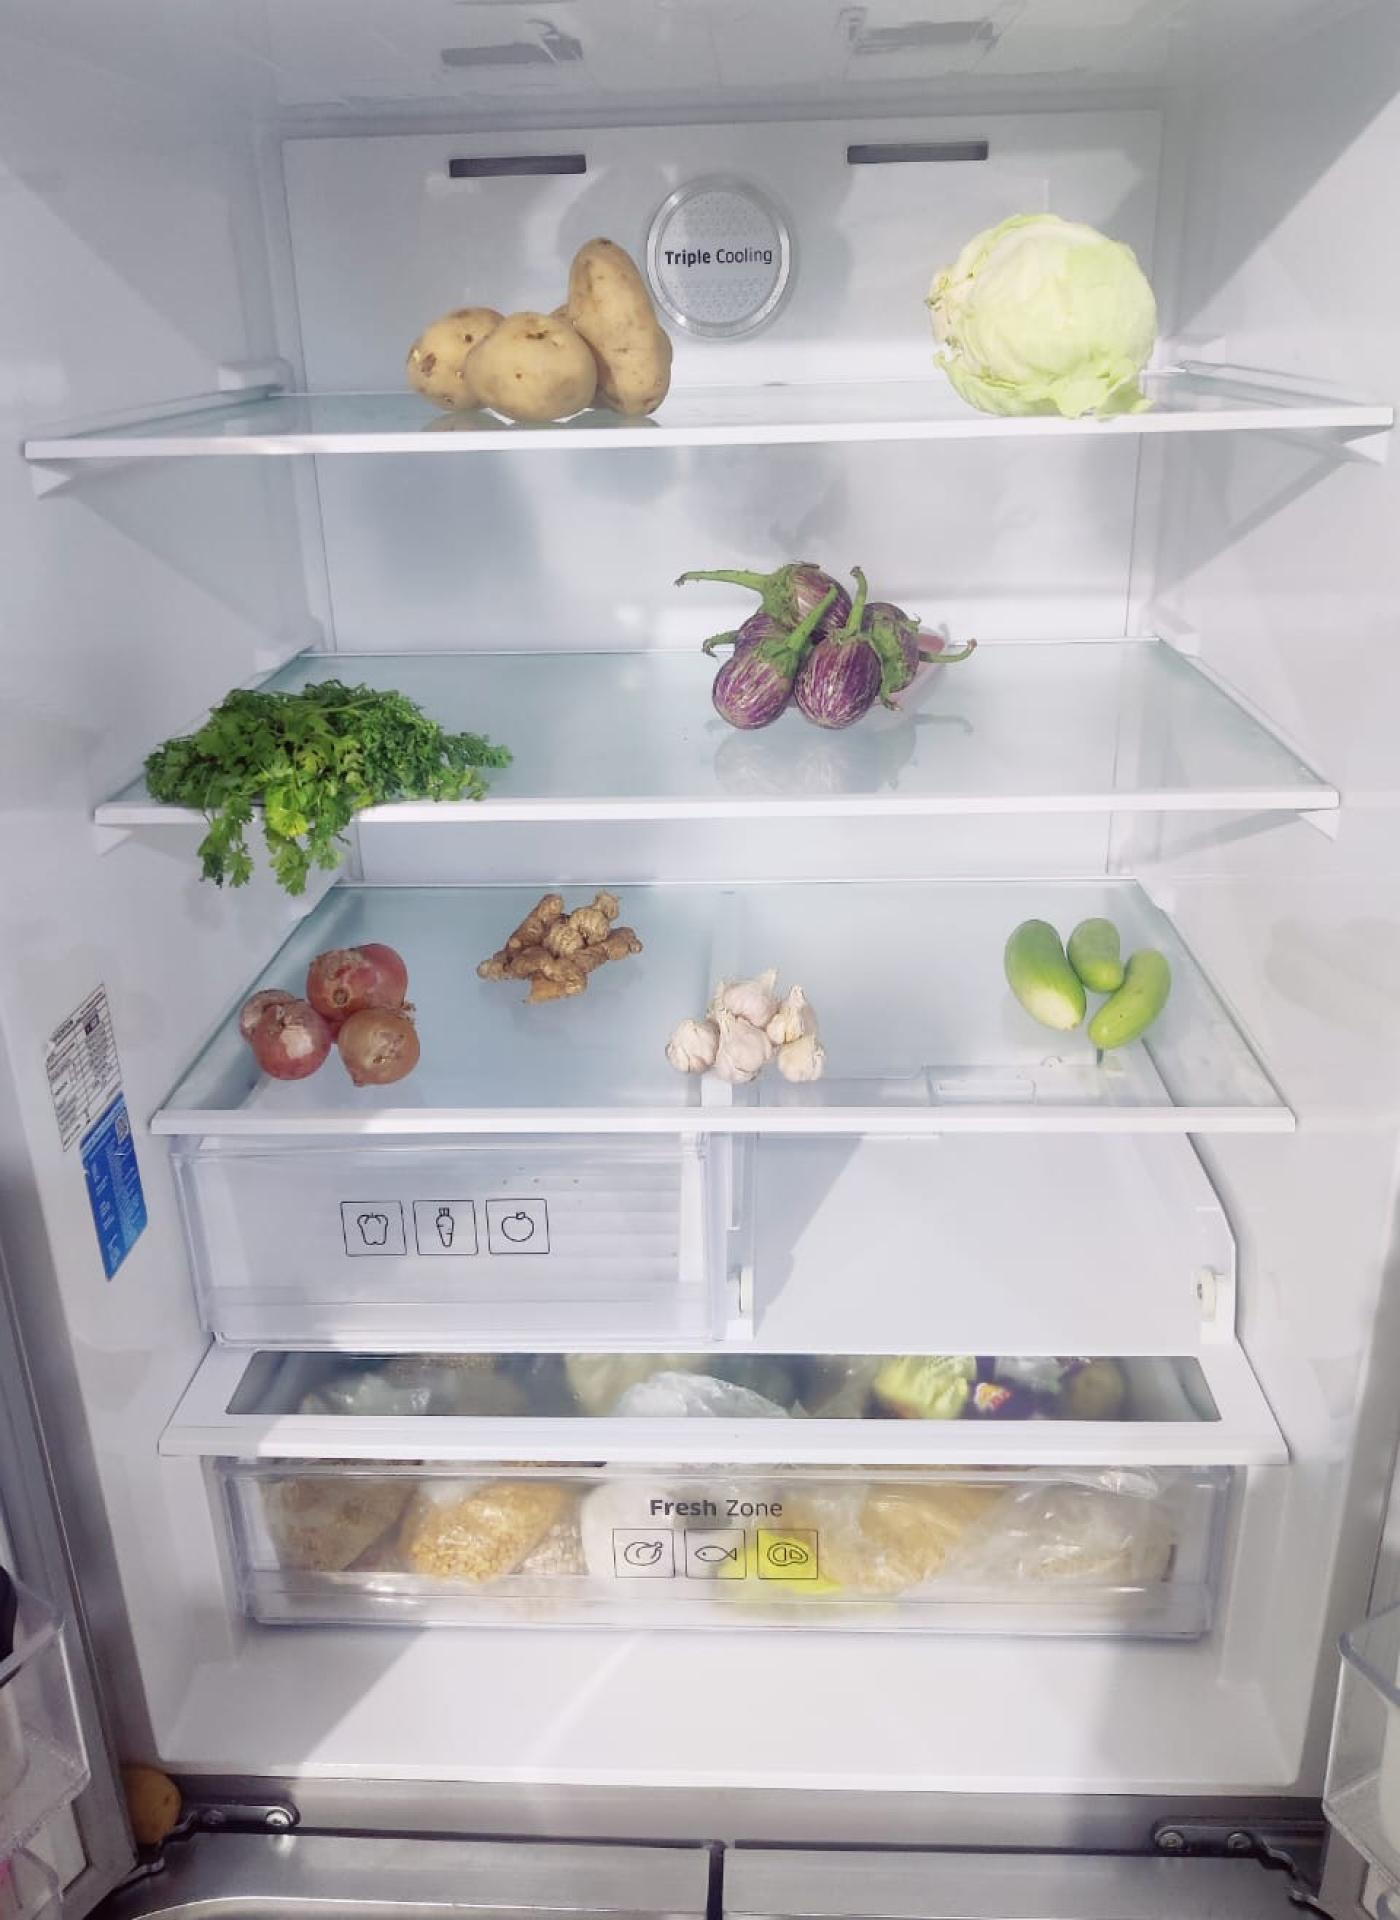brinjal: (708, 563, 941, 727)
cabbage: (933, 209, 1164, 414)
coriander: (148, 687, 491, 847)
cucumber: (1003, 909, 1172, 1048)
garlic: (671, 969, 830, 1088)
ginger: (479, 890, 640, 1000)
onion: (243, 942, 420, 1087)
potato: (410, 246, 677, 426)
